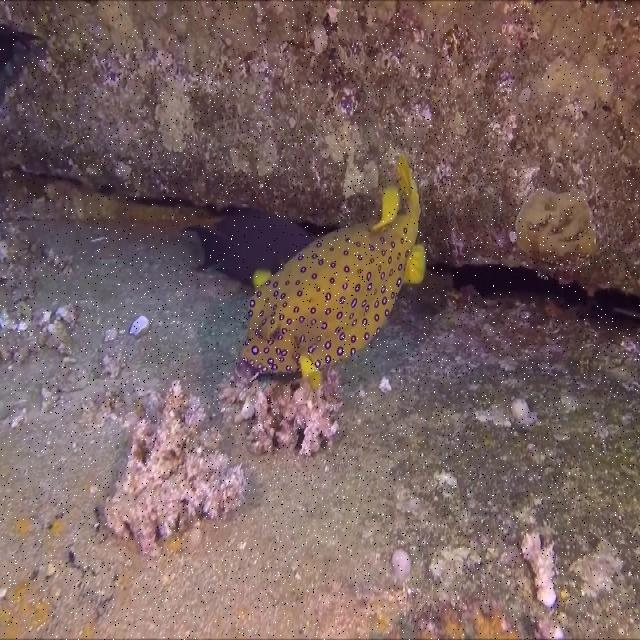fish: (241, 152, 426, 392), (181, 207, 314, 286)
reefs: (105, 380, 245, 557), (218, 360, 344, 459), (519, 533, 557, 611)
